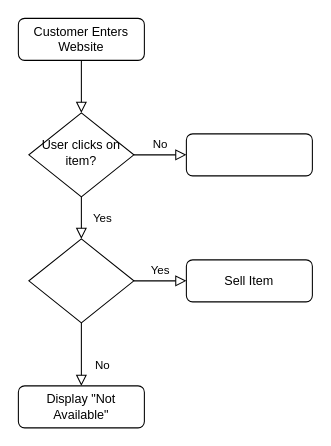
This 331x446 diagram has some shape labels left out. Here are the shapes that lost their labels. From the top down, the box of each, then its label:
(185, 133, 312, 176): Remain on hmepage
(28, 238, 134, 323): Item avaliable?
